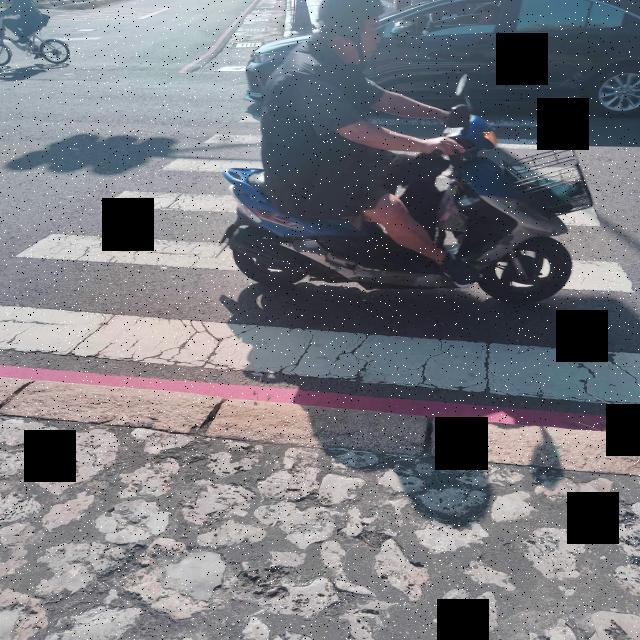person: (262, 0, 478, 285), (0, 0, 45, 44)
zebra crossing: (2, 105, 640, 406)
